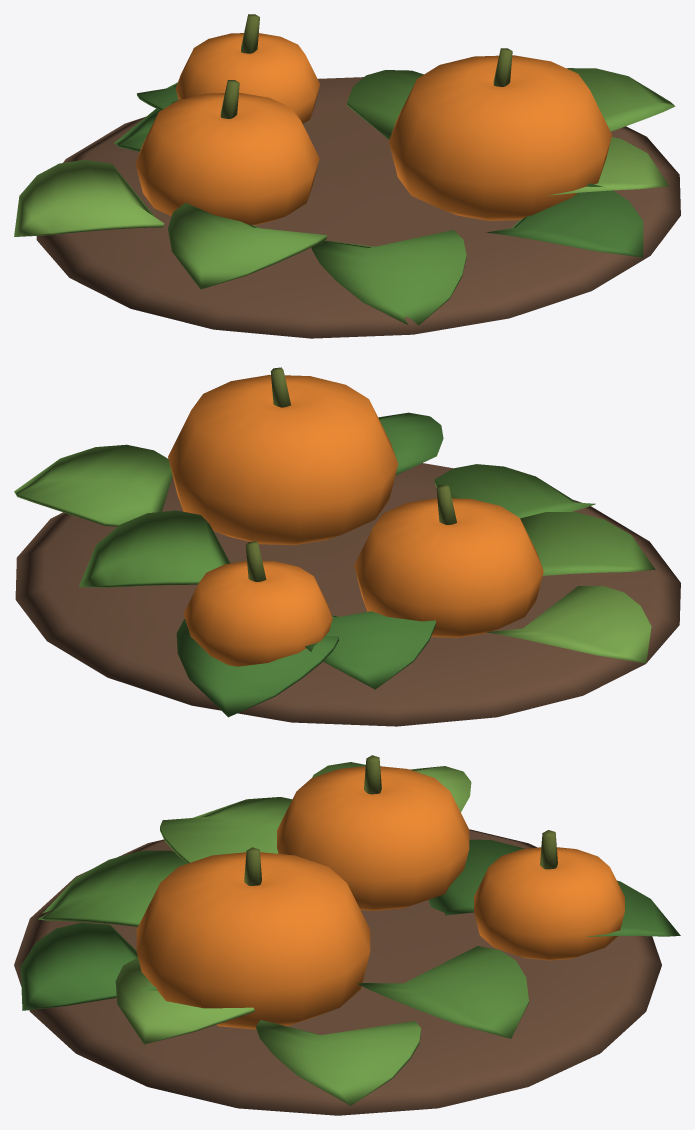
File: pumpkins.glb
3 renders of one model, top to bottom at view 1: azimuth 30°, elevation 25°; view 2: azimuth 150°, elevation 25°; view 3: azimuth 270°, elevation 25°, orthographic. The views are drawn at different scales.
Visible parts, largest first — view 1: crop, pumpkins, plants; view 2: crop, pumpkins, plants; view 3: crop, pumpkins, plants.
Part boxes in pixels (x1,y1,x2,y2): crop: (135,14,611,225); pumpkins: (36,77,680,338); plants: (14,68,675,325); crop: (168,367,543,666); pumpkins: (15,463,680,726); plants: (14,412,655,717); crop: (136,755,624,1029); pumpkins: (14,829,661,1115); plants: (20,762,680,1105).
Bounding box in the file's own units: 1.11 × 0.2686 × 0.9468.
